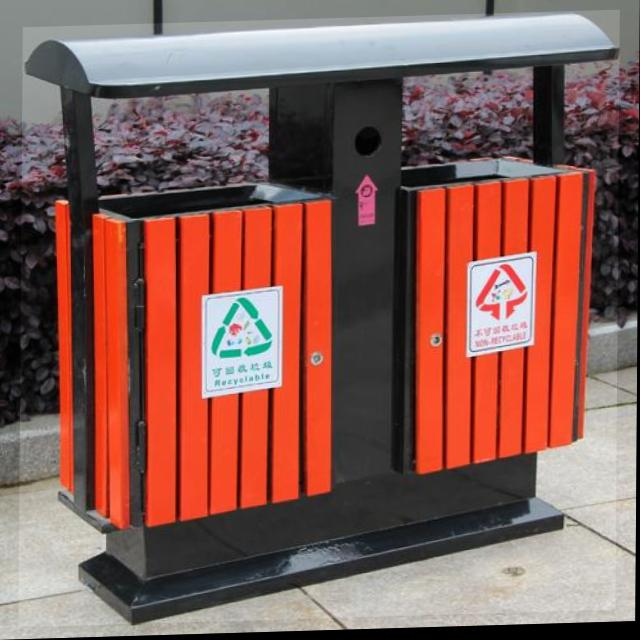garbage_bin: (19, 14, 620, 628)
